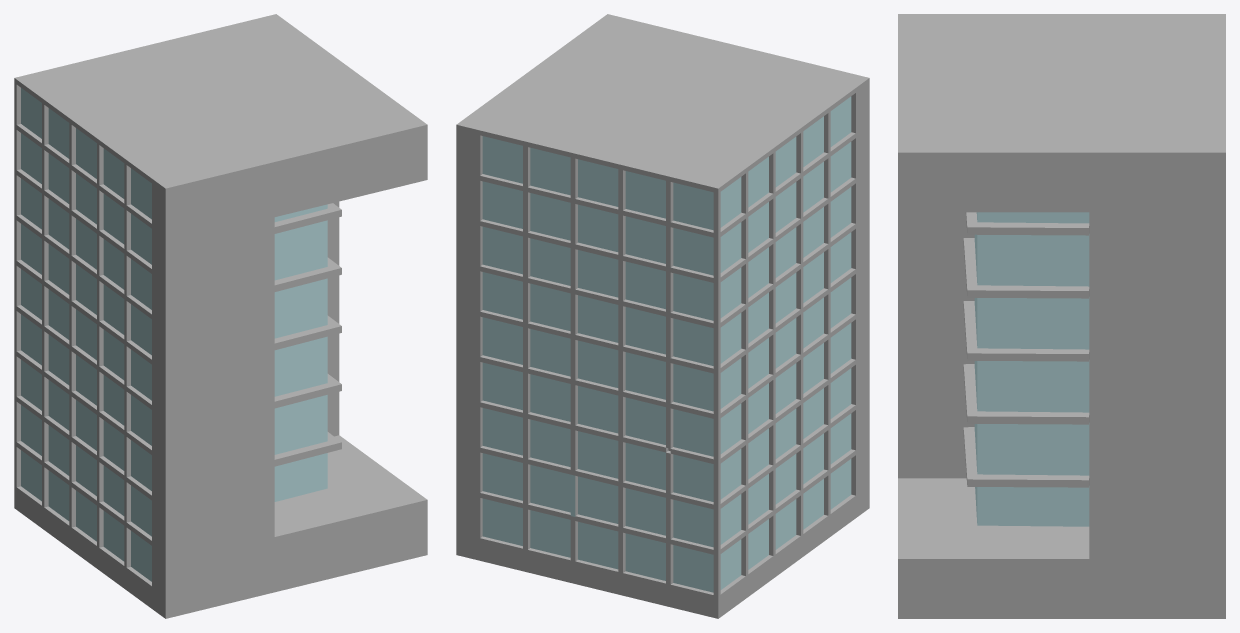
File: OhnoRIn2.fbx
3 views of the same model, side by side, from view 1: azimuth 30°, elevation 25°; view 2: azimuth 150°, elevation 25°; view 3: azimuth 270°, elevation 25° (orthographic). The views are drawn at different scales.
Visible parts, largest first — view 1: Bill2; view 2: Bill2; view 3: Bill2.
Part boxes in pixels (x1=…): Bill2: x1=14, y1=14, x2=427, y2=618; Bill2: x1=456, y1=14, x2=869, y2=618; Bill2: x1=898, y1=14, x2=1225, y2=618.
Size of the model in its own units: 292 by 458 by 292.
